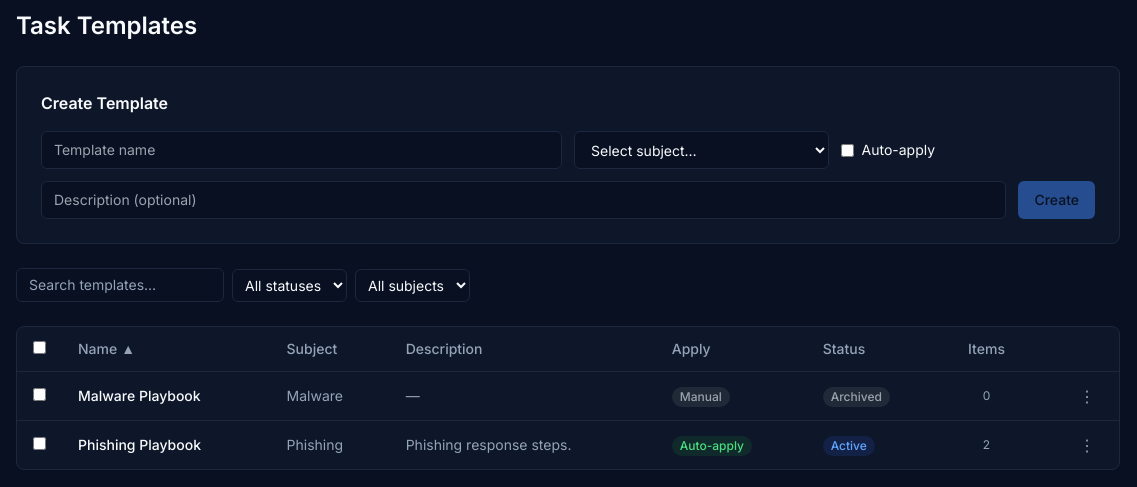
TaskTemplatesAdmin › filters by subject
Expected: the text "Phishing Playbook" is shown, x1=62 y1=420 x2=270 y2=469
Select "Malware" in the dropdown named "Subject filter": (412, 285) x1=355 y1=268 x2=470 y2=302
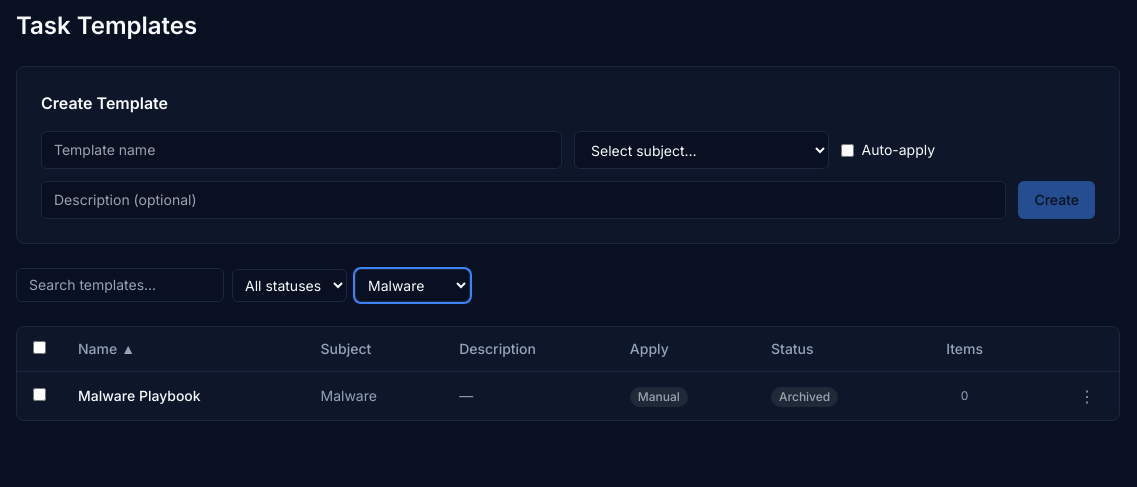
Expected: the text "Malware Playbook" is shown, x1=62 y1=372 x2=304 y2=420
Result: the text "Phishing Playbook" is gone
